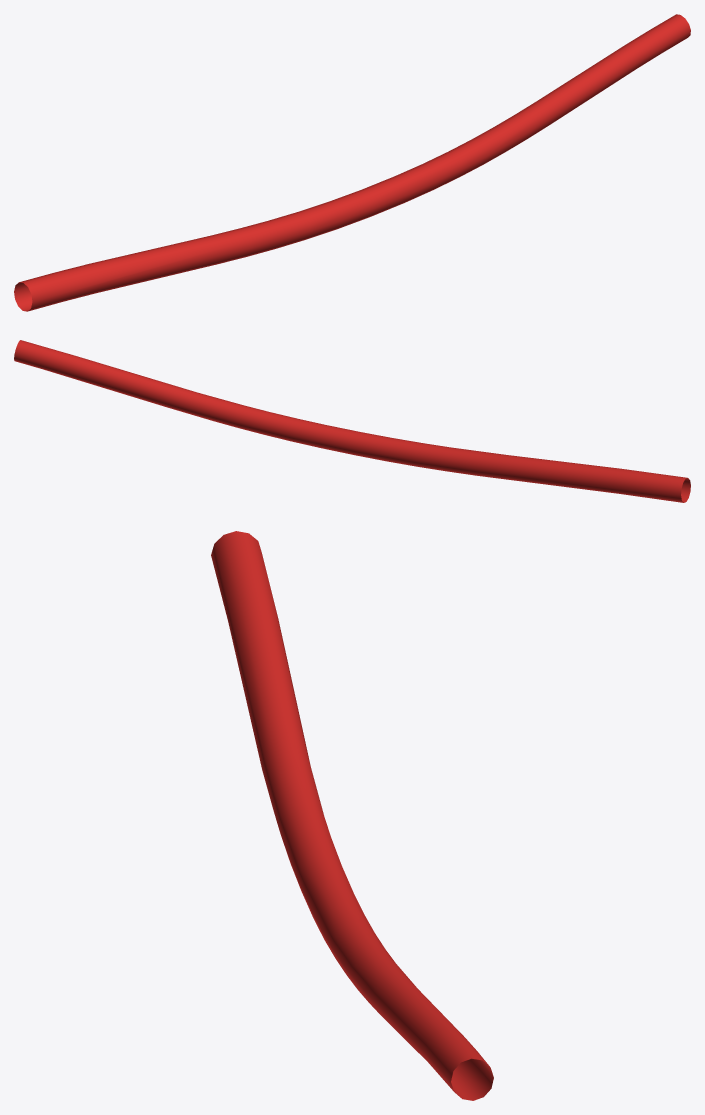
Rendered from circulatorio-palmar-carpal-branch-of-radial-artery-l.glb.
3 renders of one model, top to bottom at view 1: azimuth 30°, elevation 25°; view 2: azimuth 150°, elevation 25°; view 3: azimuth 270°, elevation 25°, orthographic. The views are drawn at different scales.
Visible parts, largest first — view 1: Palmar carpal branch of radial artery.l; view 2: Palmar carpal branch of radial artery.l; view 3: Palmar carpal branch of radial artery.l.
Part boxes in pixels (left/top/right/bottom): Palmar carpal branch of radial artery.l: left=14, top=14, right=690, bottom=311; Palmar carpal branch of radial artery.l: left=14, top=340, right=690, bottom=502; Palmar carpal branch of radial artery.l: left=211, top=531, right=493, bottom=1100.
Size of the model in its own units: 0.0273 by 0.00292 by 0.00545.
